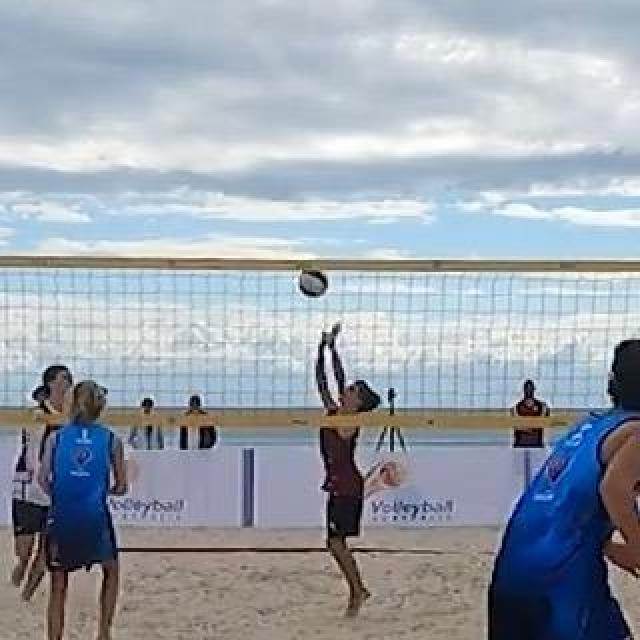volleyball: (299, 271, 327, 297)
